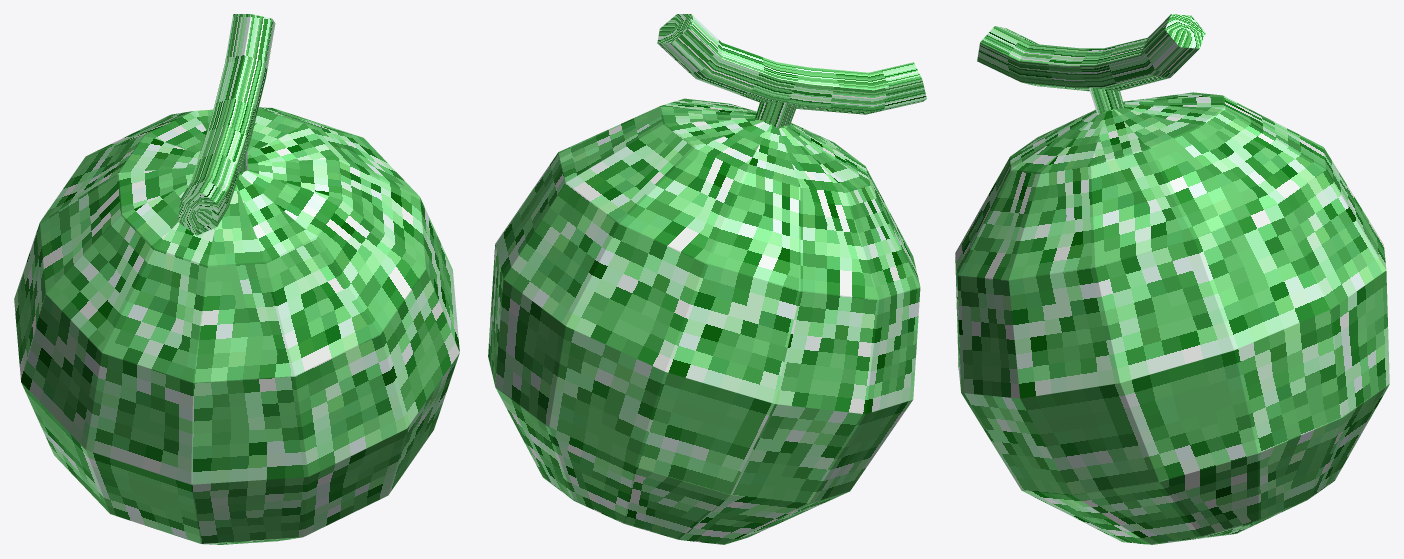
Rendered from Melon.obj.
3 views of the same model, side by side, from view 1: azimuth 30°, elevation 25°; view 2: azimuth 150°, elevation 25°; view 3: azimuth 270°, elevation 25° (orthographic). The views are drawn at different scales.
Parts seen in each view (by area): view 1: Inst3D10_RefRep.210; view 2: Inst3D10_RefRep.210; view 3: Inst3D10_RefRep.210.
Boxes of the visible parts, box(x1,y1,x2,y2) form: Inst3D10_RefRep.210: box(14, 14, 459, 544); Inst3D10_RefRep.210: box(488, 14, 926, 544); Inst3D10_RefRep.210: box(955, 14, 1389, 544).
Size of the model in its own units: 4.45 by 5.74 by 4.38.
